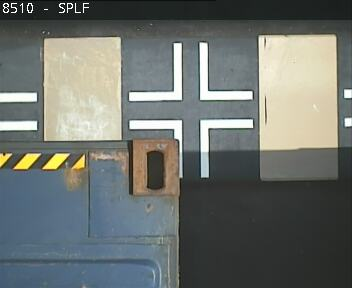groundmarker_1: (126, 40, 255, 103), (129, 118, 253, 177)
